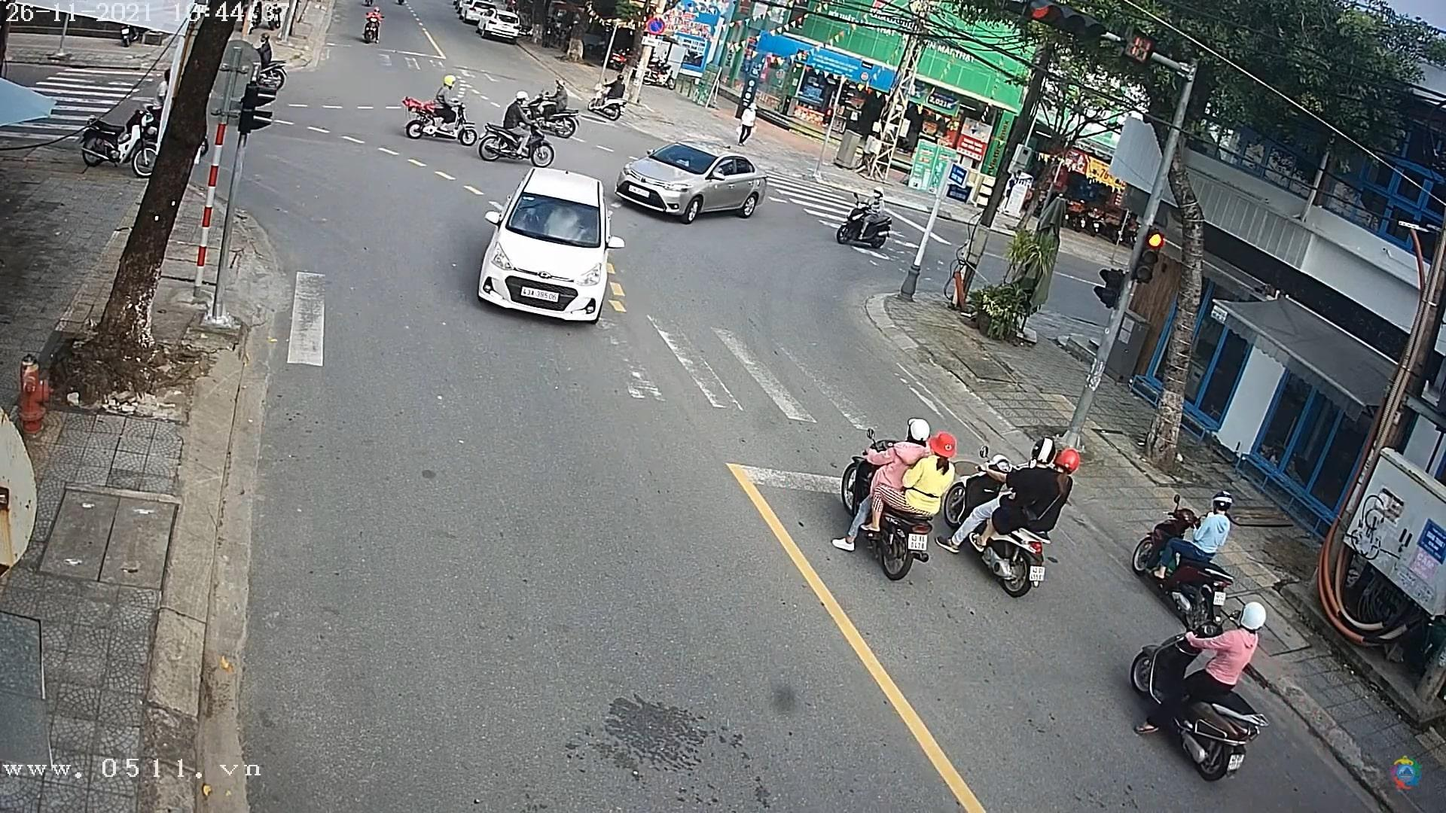car: (475, 169, 615, 321), (613, 142, 775, 224)
motorbike: (363, 11, 381, 43)
